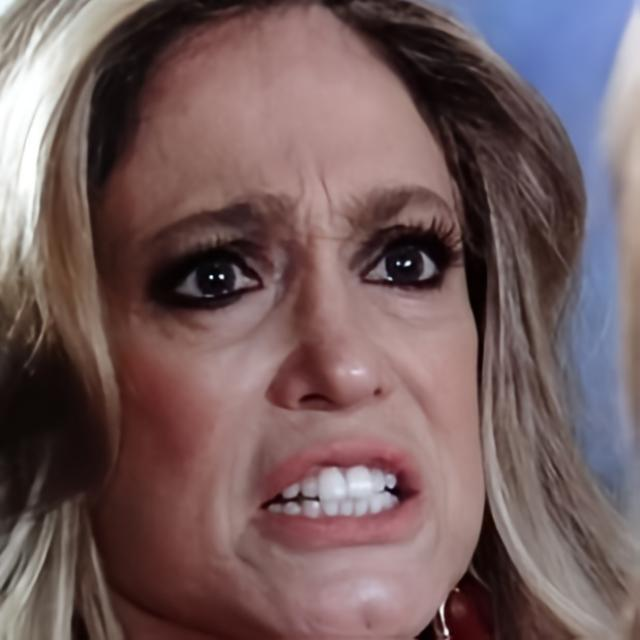disgust: (86, 1, 484, 640)
